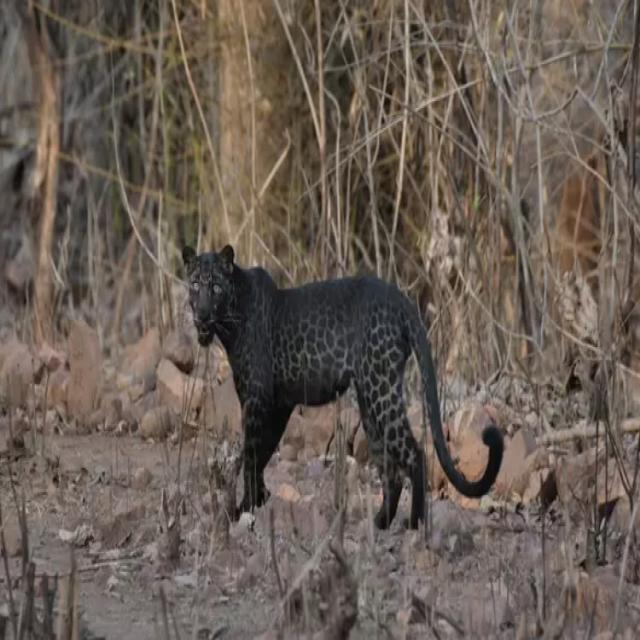Leopard: (181, 242, 502, 532)
